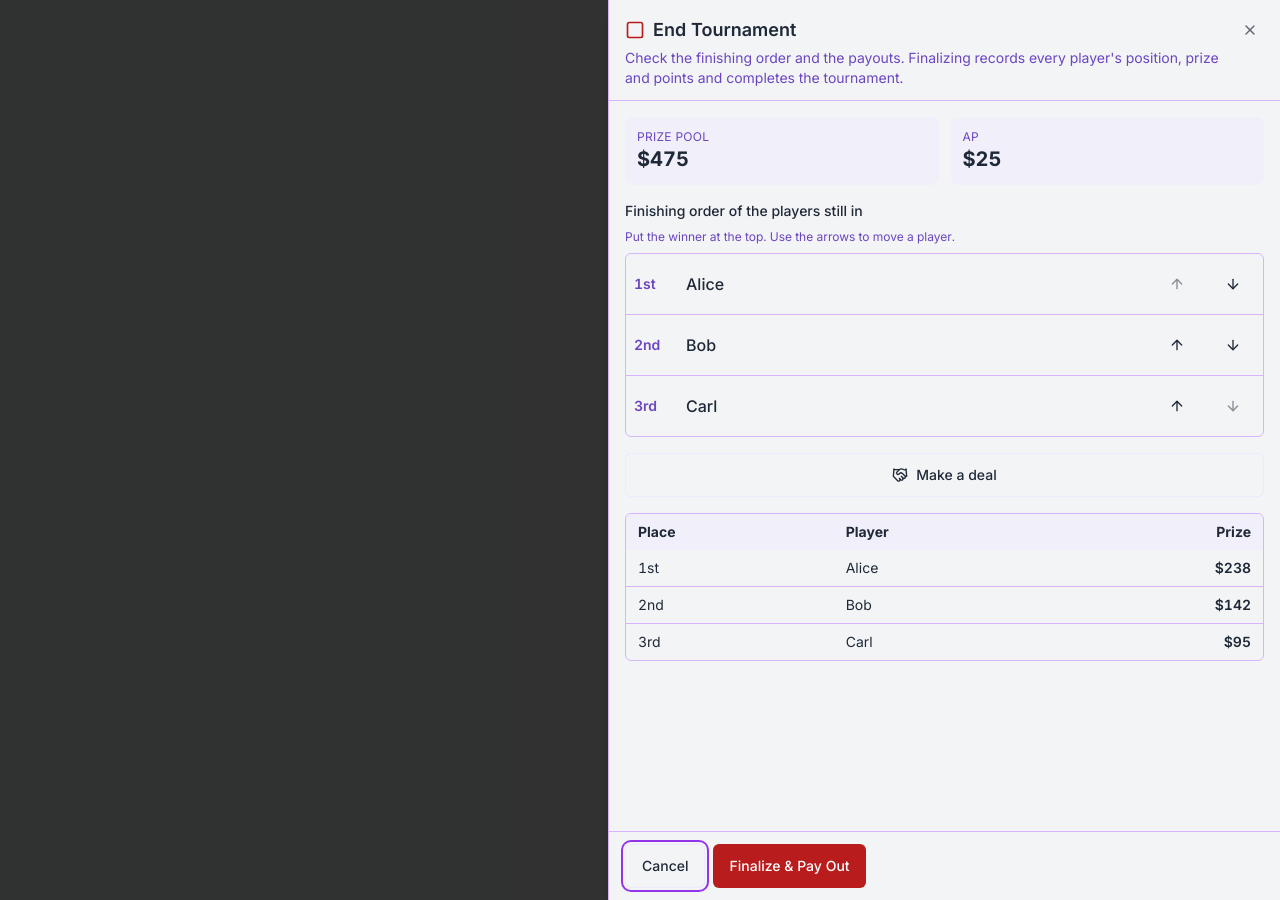
a deal at End Tournament › shows why the server refused the deal, and asks for the plan again
Click the button with test id "make-deal" at (944, 475), box [625, 453, 1264, 497]
(page scrolled)
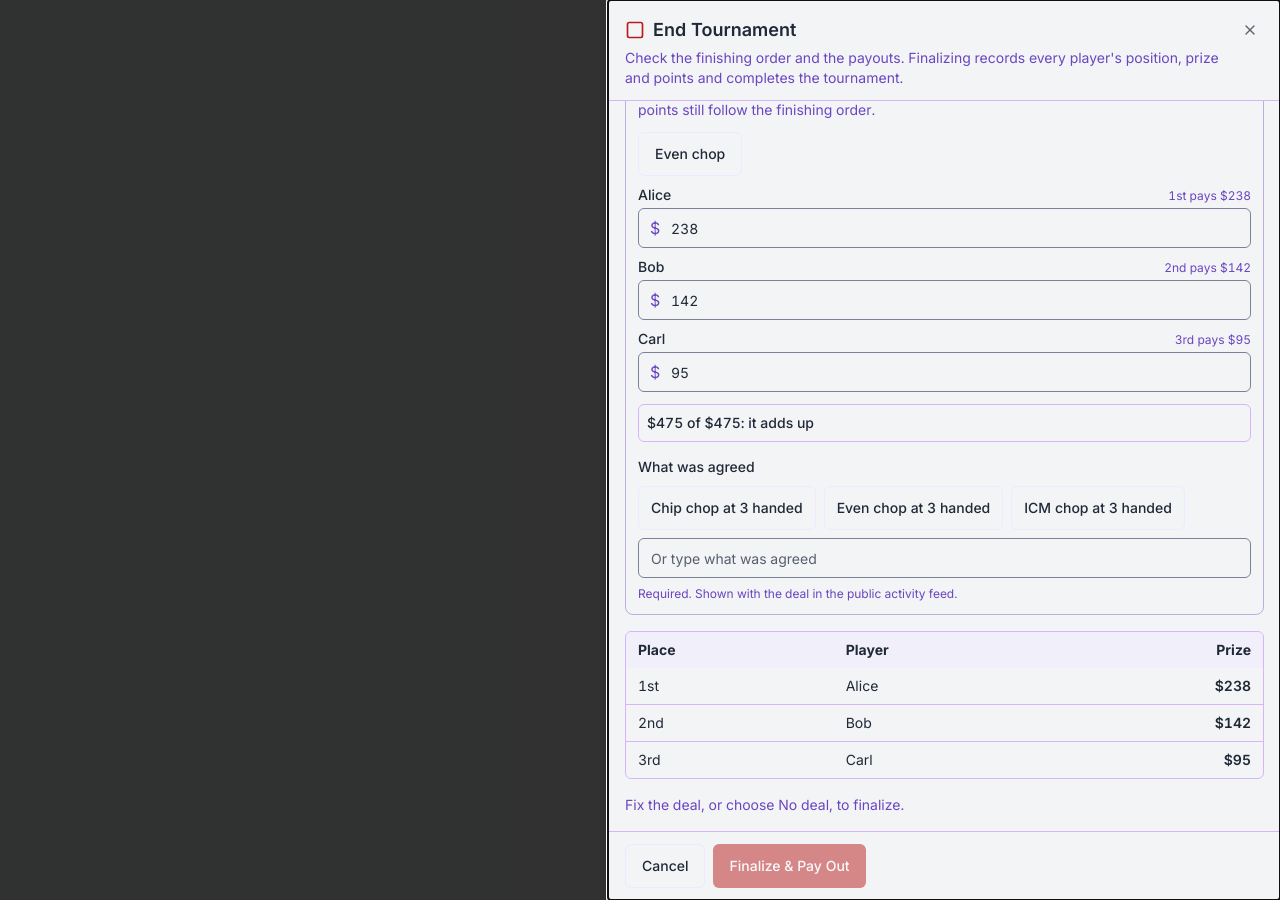
Click the button "Chip chop at 3 handed" at (727, 508), box [638, 486, 816, 530]
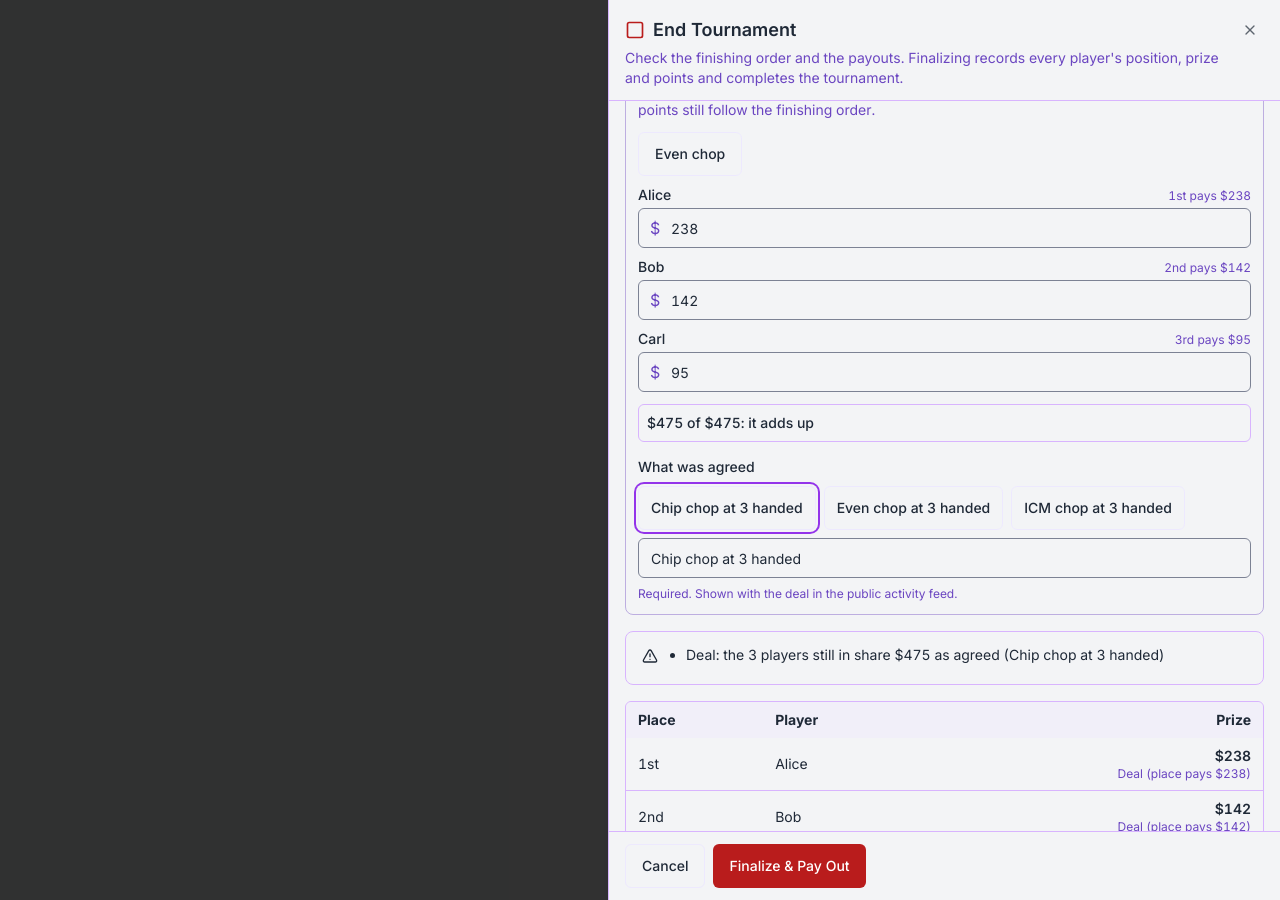
Check: the text "Deal (place pays $238)" is shown, box [1118, 766, 1251, 781]
Check: the button with test id "confirm-finalize" is enabled
Click the button with test id "confirm-finalize" at (790, 866), box [714, 844, 866, 888]
(page scrolled)
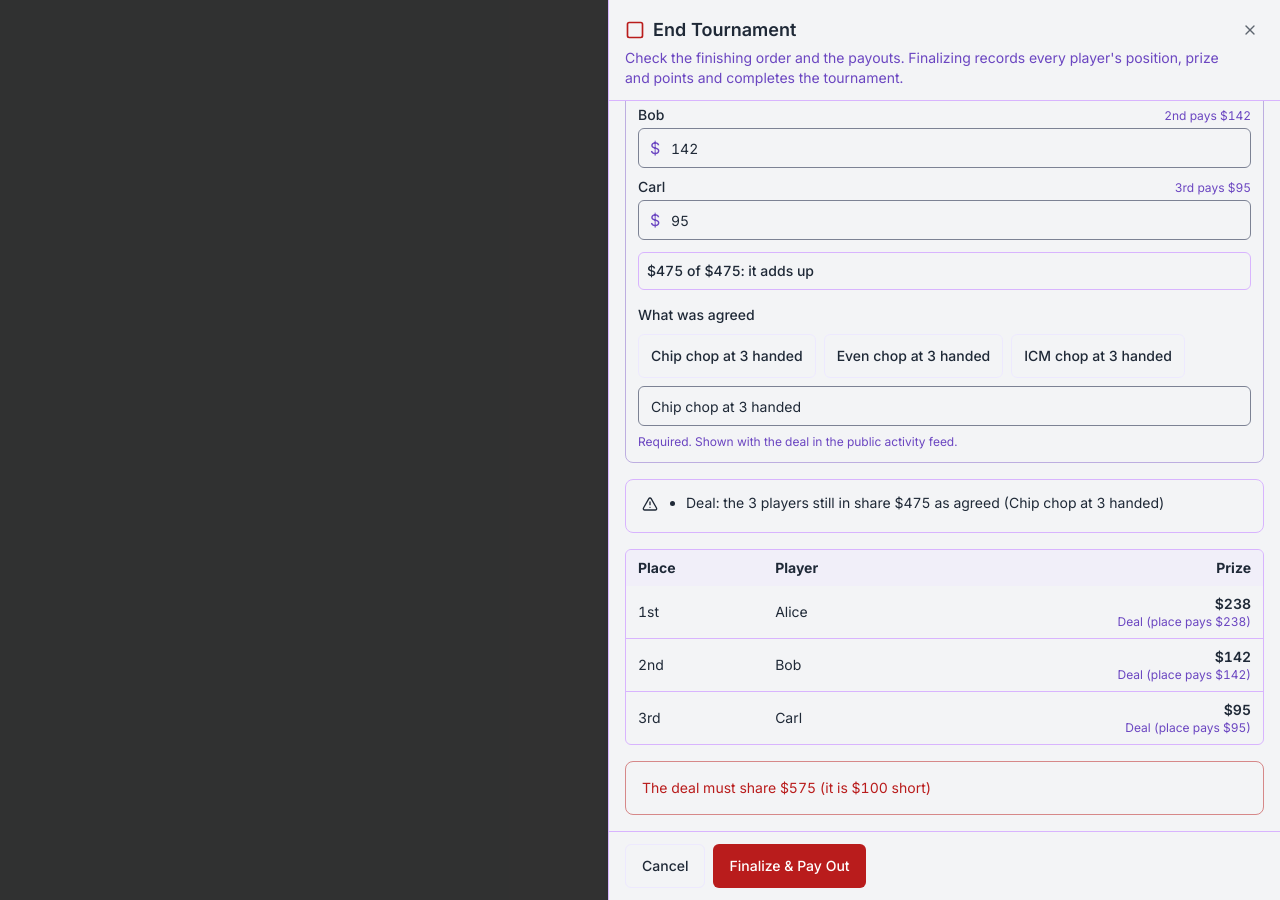
Check: the text with test id "finalize-notice" reads "The deal must share $575 (it is $100 short)", box [642, 779, 931, 796]
